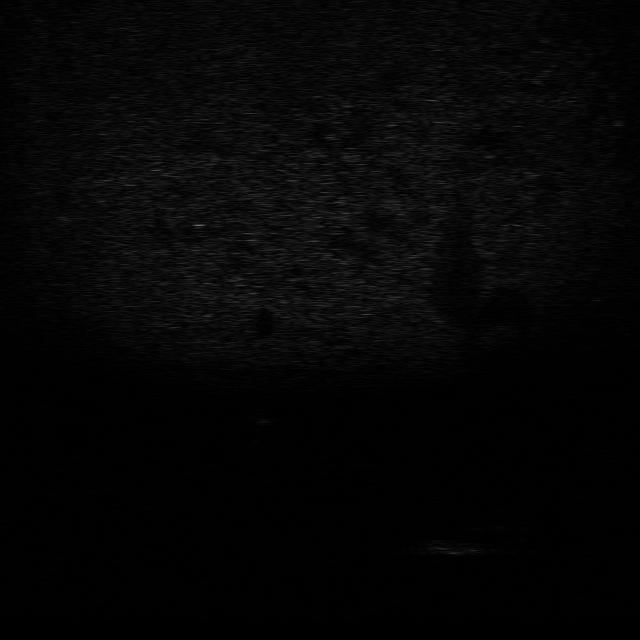ball: (246, 406, 284, 424)
metal bucket: (413, 533, 498, 557)
tyre: (471, 516, 531, 536)
